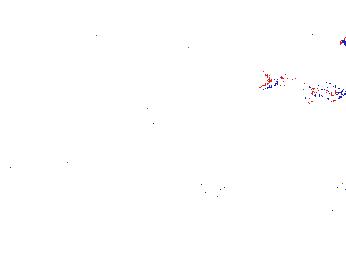X-ray fish: (202, 175, 254, 208), (293, 173, 336, 205), (129, 106, 161, 126)
redtail glassfish: (257, 64, 346, 104)
